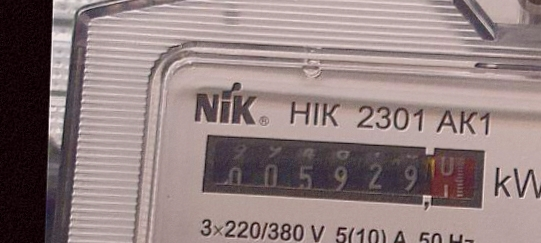0: (261, 161, 281, 190), (224, 162, 246, 186), (438, 154, 457, 178)
2: (365, 160, 385, 194)
5: (296, 163, 315, 191)
9: (329, 163, 351, 193), (401, 162, 421, 195), (230, 142, 249, 161)
screen: (195, 129, 493, 218)
